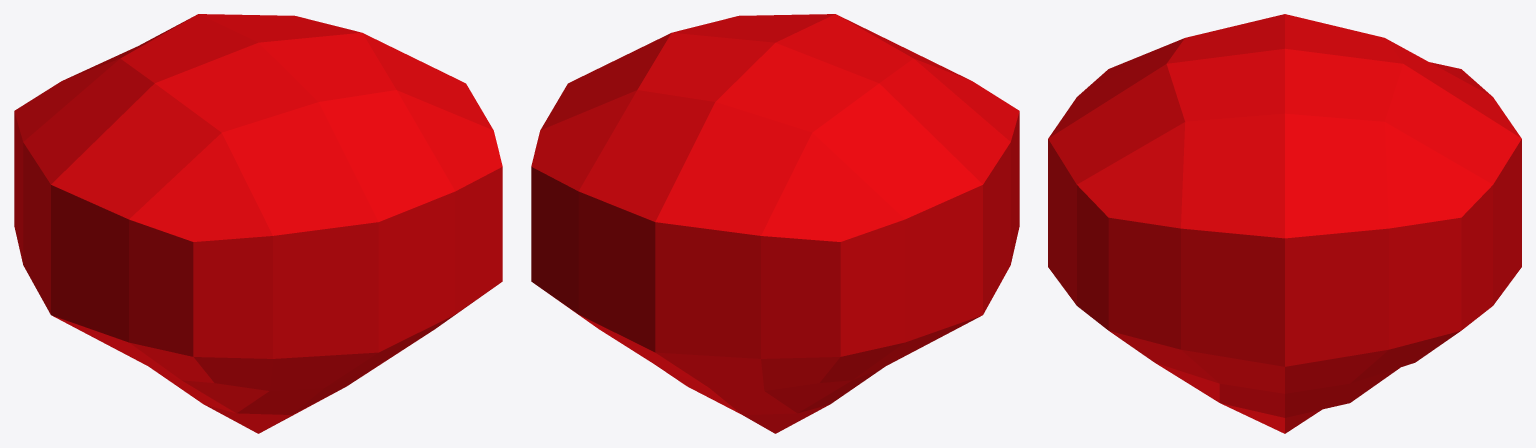
File: gem.fbx
3 renders of one model, left to right at view 1: azimuth 30°, elevation 25°; view 2: azimuth 150°, elevation 25°; view 3: azimuth 270°, elevation 25°, orthographic.
Parts seen in each view (by area): view 1: Cube; view 2: Cube; view 3: Cube.
Part boxes in pixels (left/top/right/bottom): Cube: left=14, top=14, right=502, bottom=433; Cube: left=531, top=14, right=1019, bottom=433; Cube: left=1048, top=14, right=1521, bottom=433.
Bounding box in the file's own units: 93.15 × 83.91 × 93.51.
